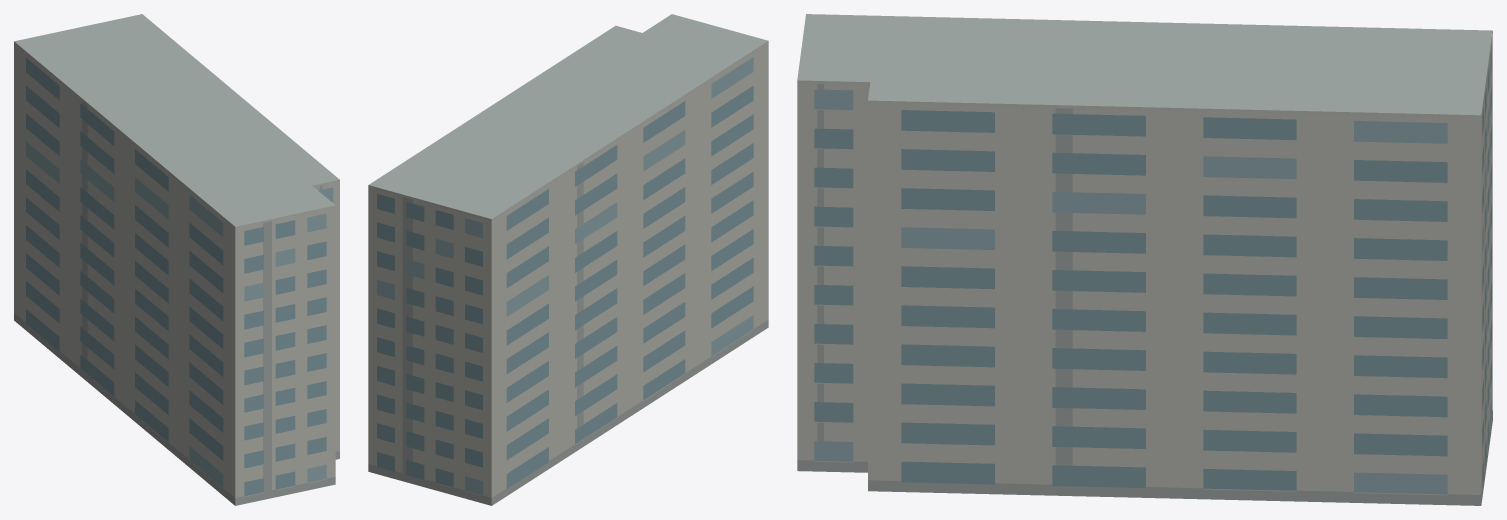
Rendered from residential-28d0c7c0-764d-4300-89f0-c6c77df67010.glb.
3 views of the same model, side by side, from view 1: azimuth 30°, elevation 25°; view 2: azimuth 150°, elevation 25°; view 3: azimuth 270°, elevation 25° (orthographic). The views are drawn at different scales.
Parts seen in each view (by area): view 1: residential-28d0c7c0-764d-4300-89f0-c6c77df67010.tmp; view 2: residential-28d0c7c0-764d-4300-89f0-c6c77df67010.tmp; view 3: residential-28d0c7c0-764d-4300-89f0-c6c77df67010.tmp.
Part boxes in pixels (x1=…): residential-28d0c7c0-764d-4300-89f0-c6c77df67010.tmp: x1=14, y1=14, x2=339, y2=505; residential-28d0c7c0-764d-4300-89f0-c6c77df67010.tmp: x1=368, y1=14, x2=768, y2=505; residential-28d0c7c0-764d-4300-89f0-c6c77df67010.tmp: x1=797, y1=14, x2=1492, y2=505.
Size of the model in its own units: 16.97 by 30.5 by 49.23.
